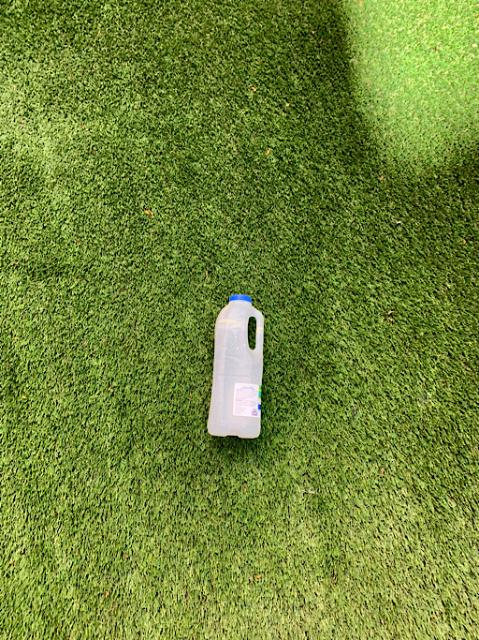plastic: (207, 294, 262, 437)
